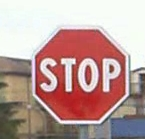stop: (31, 25, 129, 126)
